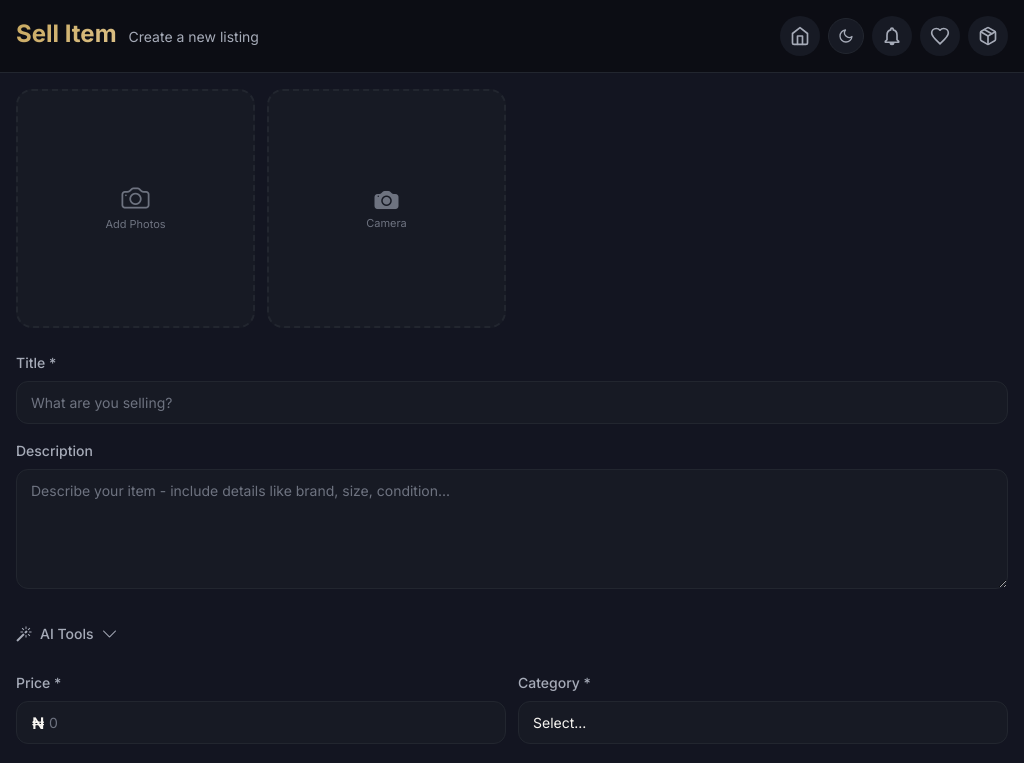
Test: AddListing › publishes a valid listing and navigates home
The width and height of the screenshot is (1024, 763).
Type "Blue wool scarf" into the field with placeholder "What are you selling?".
click(512, 402); type("Blue wool scarf")  # box x1=16 y1=381 x2=1008 y2=424
(page scrolled)
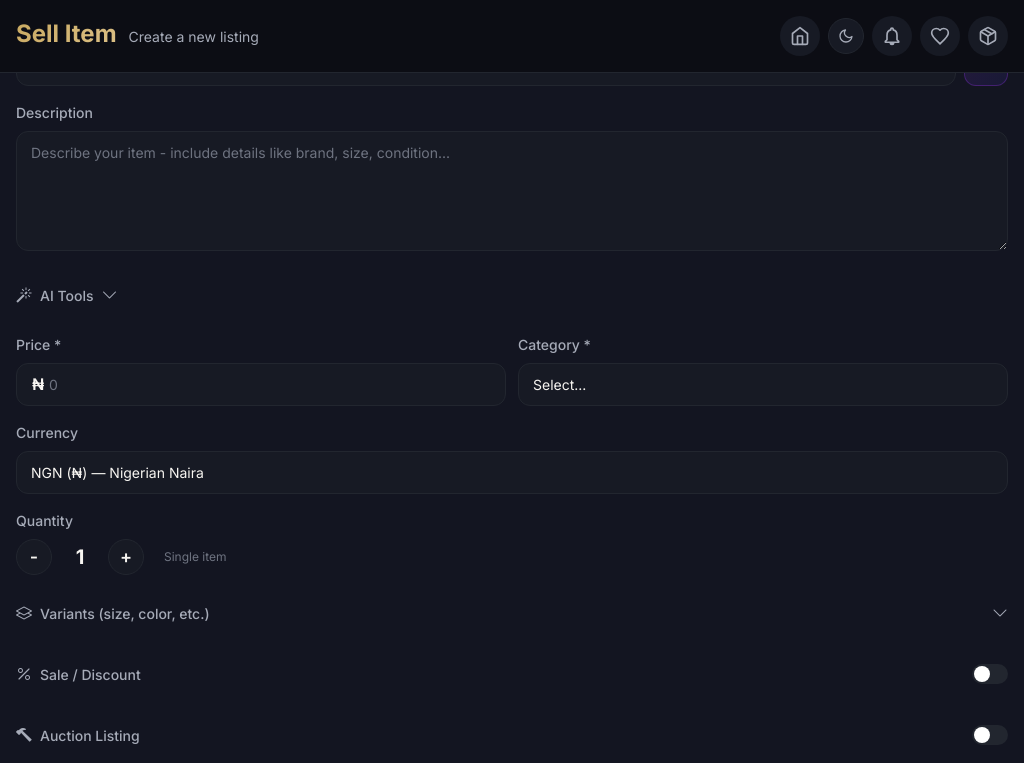
Type "1500" into the number field with placeholder "0".
click(261, 384); type("1500")  # box x1=16 y1=363 x2=506 y2=406
(page scrolled)
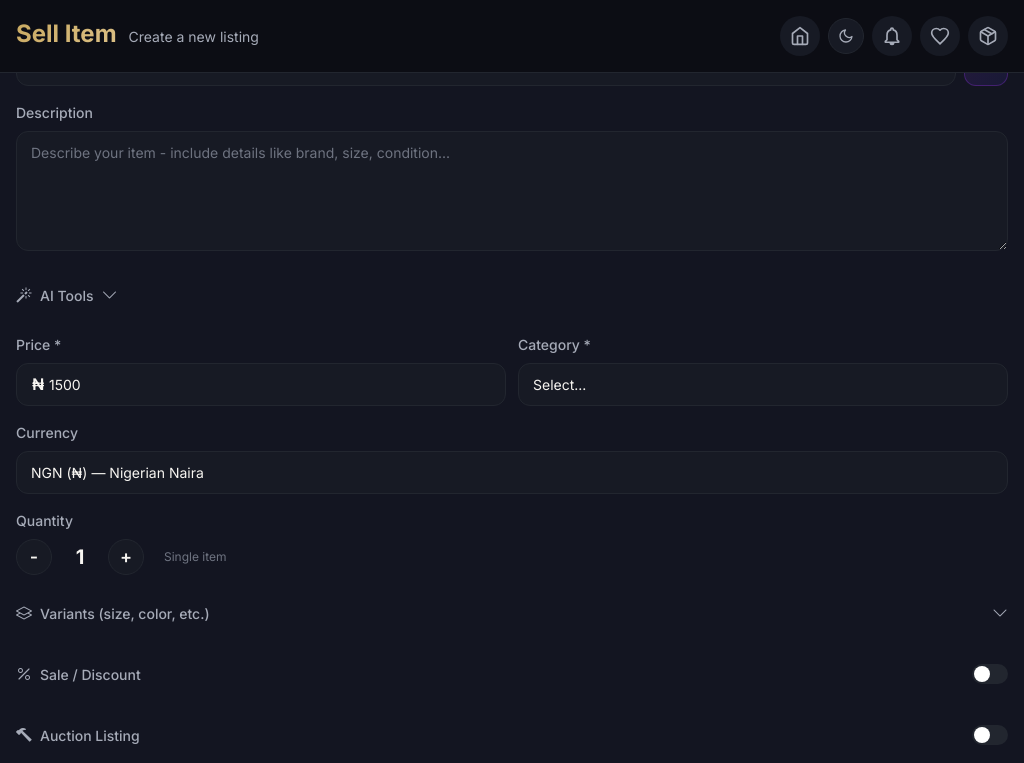
Select "Electronics" in the dropdown below "Category *" at (763, 384), box x1=518 y1=362 x2=1008 y2=406
(page scrolled)
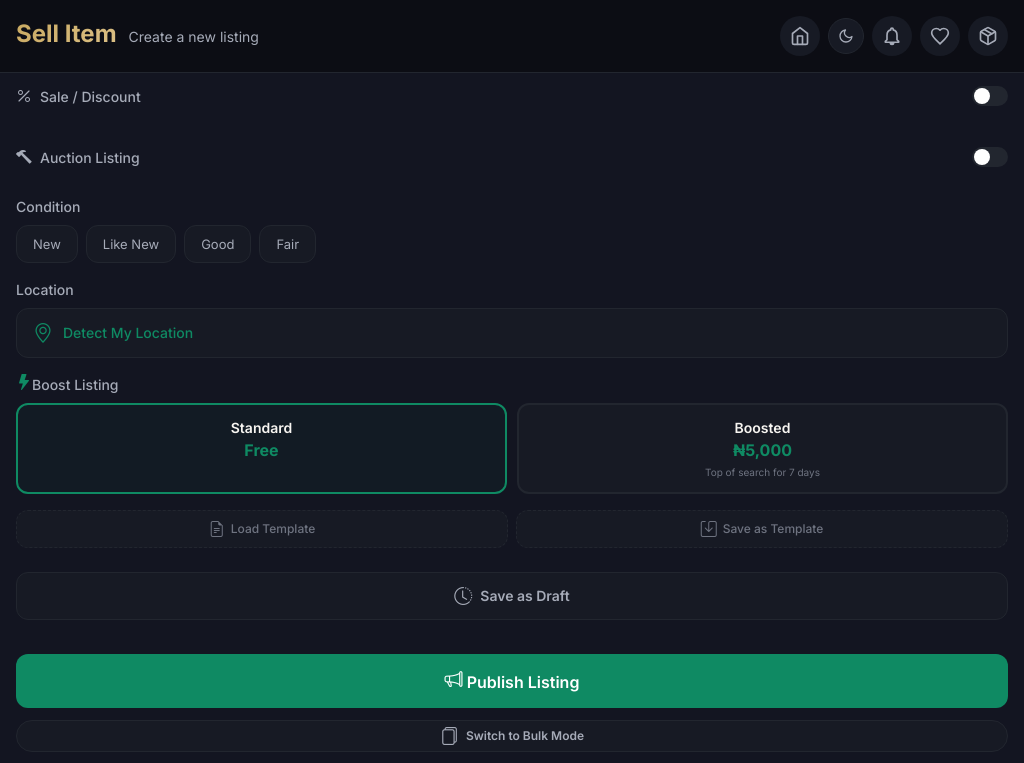
Click the button "Publish Listing".
click(512, 680)  # box x1=16 y1=654 x2=1008 y2=708
(page scrolled)
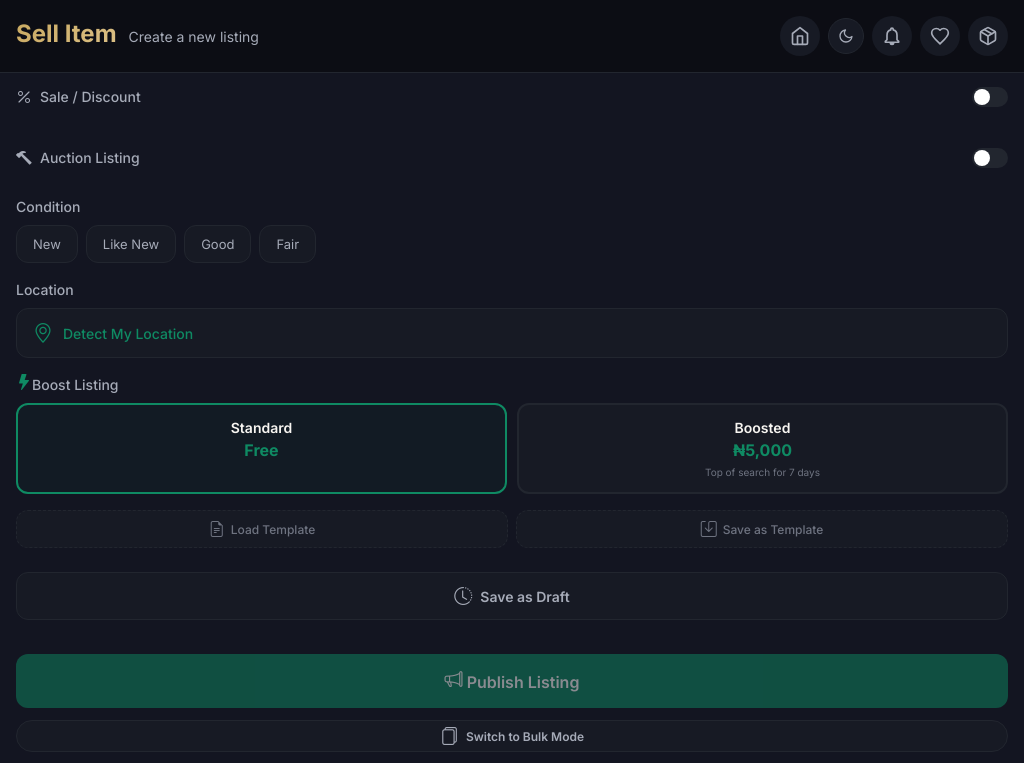
Check: the button "Publish Listing" is disabled, box x1=16 y1=654 x2=1008 y2=708
